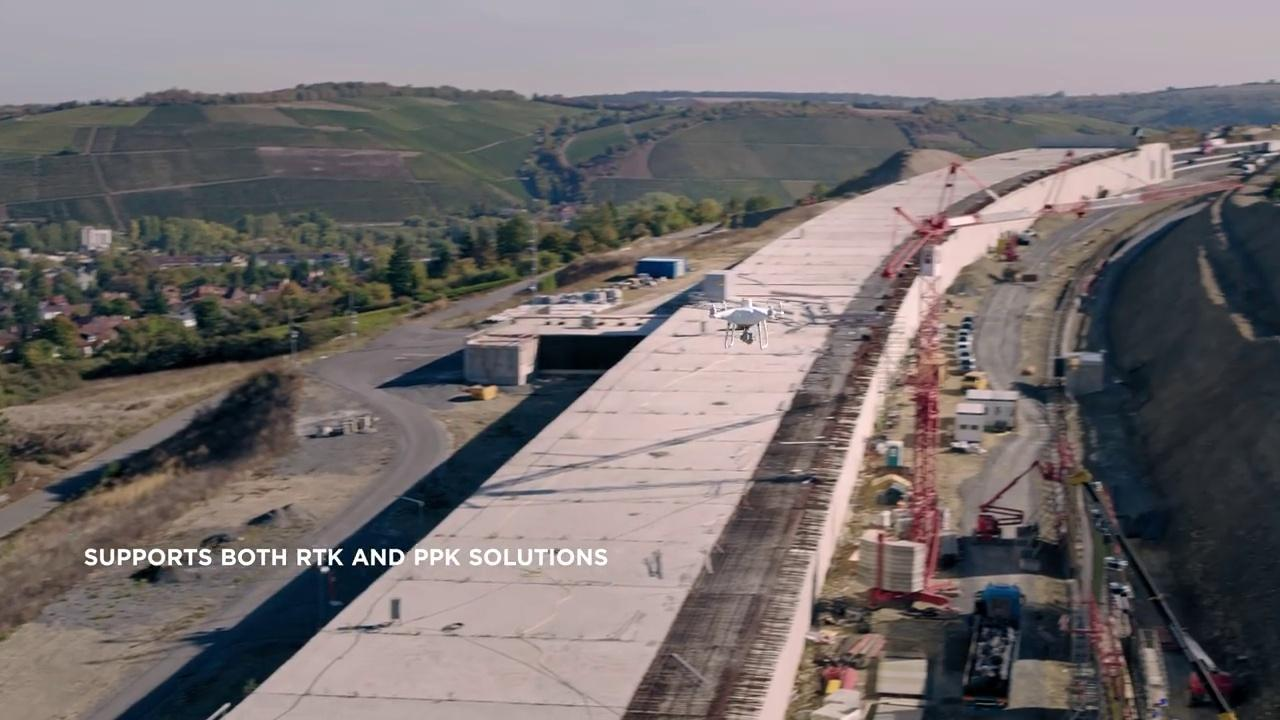drone: (699, 294, 787, 351)
